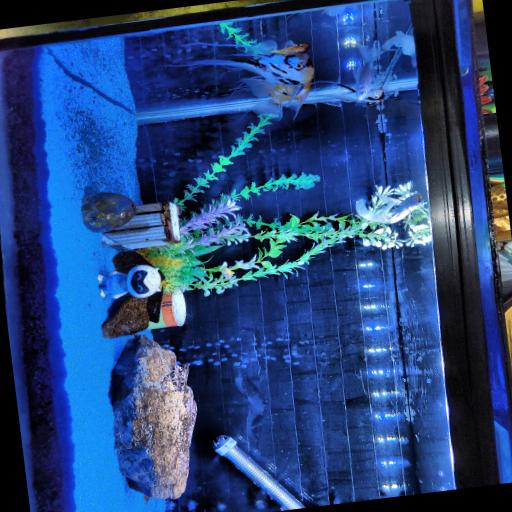Fish: (185, 53, 313, 100), (252, 84, 311, 120), (354, 194, 422, 224), (185, 40, 309, 55), (311, 81, 383, 105), (352, 45, 381, 101), (381, 31, 415, 65), (246, 41, 309, 55), (356, 89, 383, 105), (218, 262, 232, 280), (144, 496, 149, 503)
